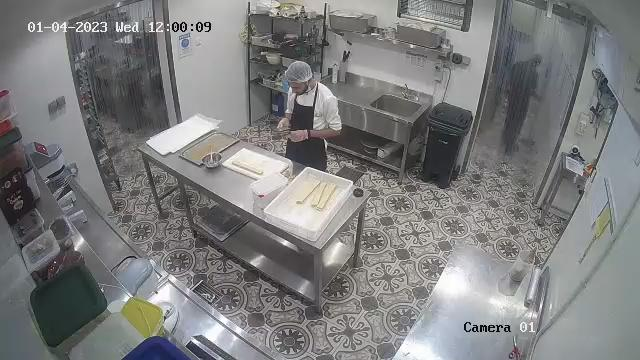no_apron: (284, 90, 328, 169)
